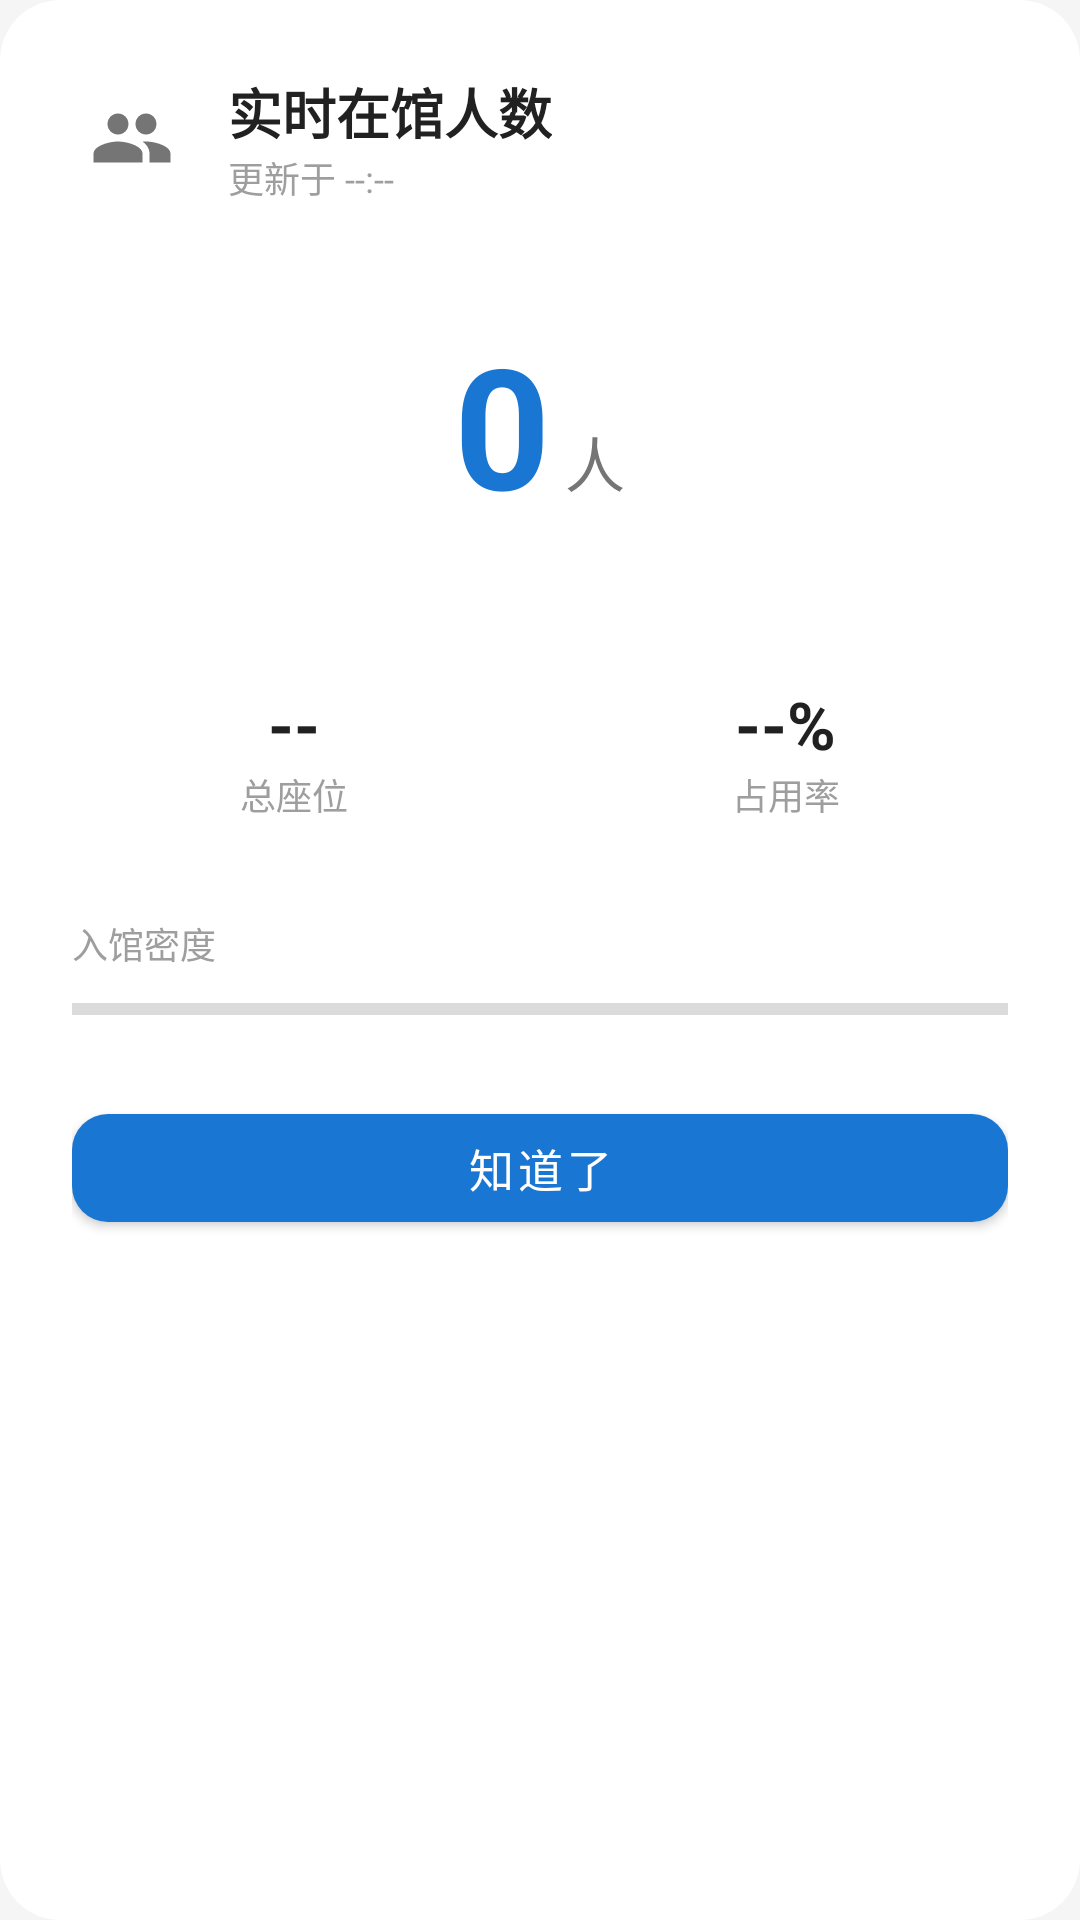

Icon bounding boxes for this 1080×1920 phone screenshot, format (x1=x1, y1=y1, x2=x2, y2=y2):
people: (x1=93, y1=113, x2=171, y2=163)
